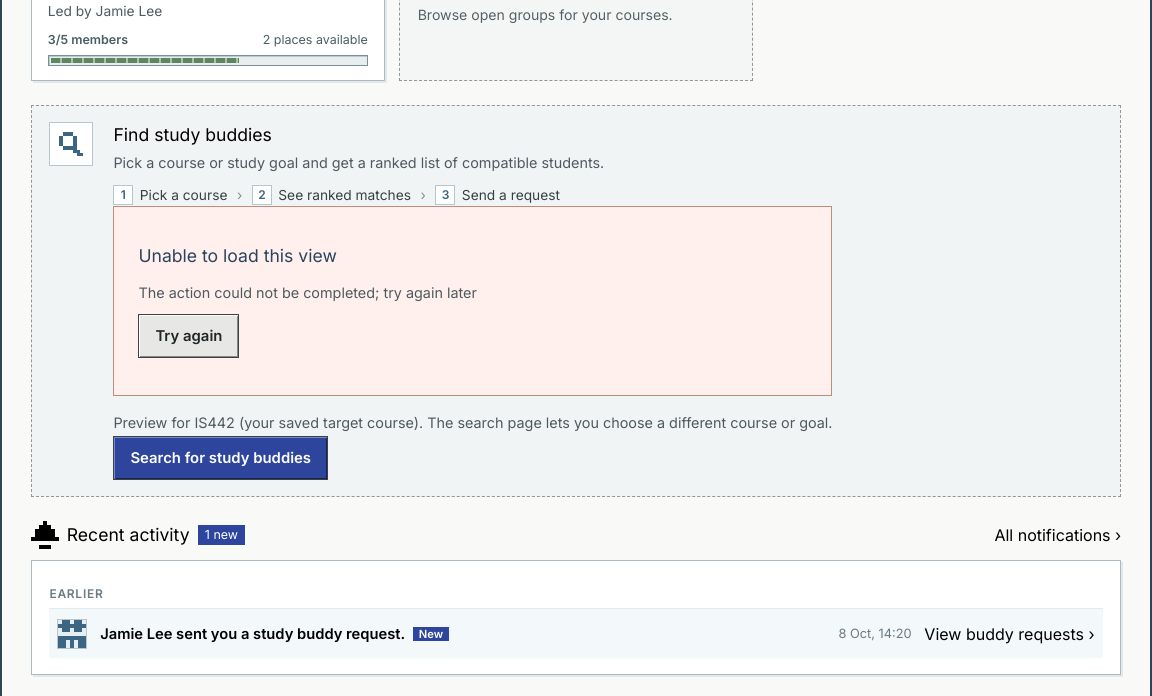
student home › retries a failed matching preview while the other dashboard sections still work
This screenshot has width=1152, height=696.
(page scrolled)
Expected: the heading "Unable to load this view" is shown, [138,242,337,269]
Step 1. Click the button "Try again" → {"x": 189, "y": 336}, box [138,314,239,358]
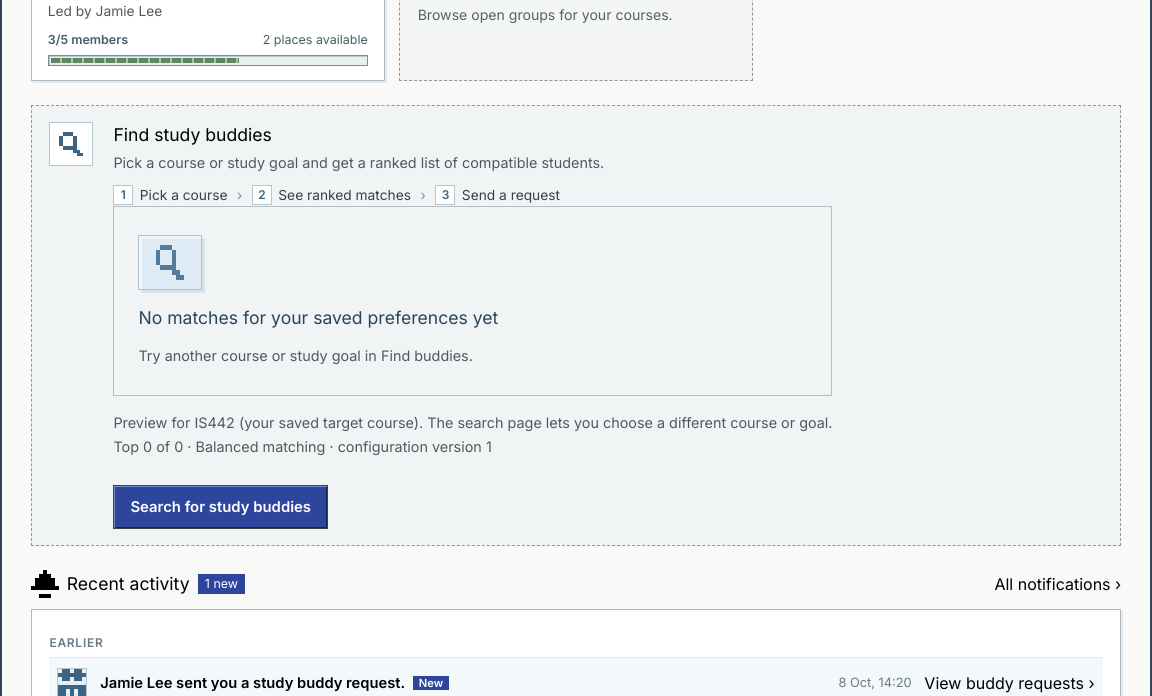
Result: the heading "No matches for your saved preferences yet" is shown at [138,305,498,331]
